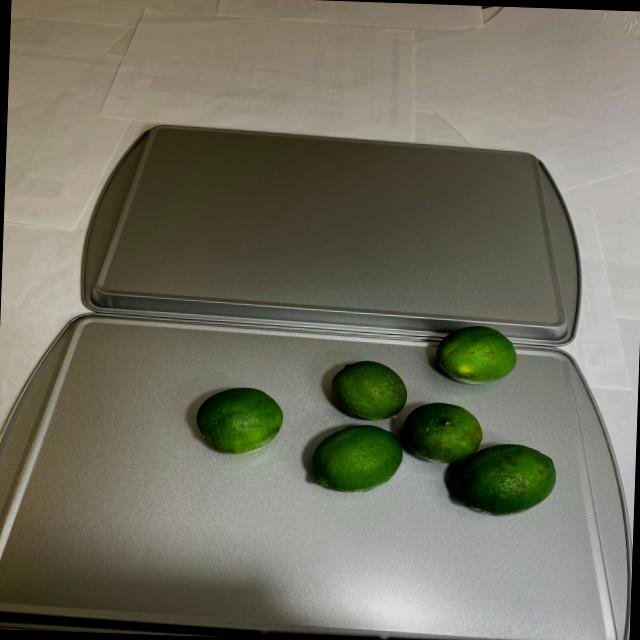lemon: (188, 316, 568, 522)
